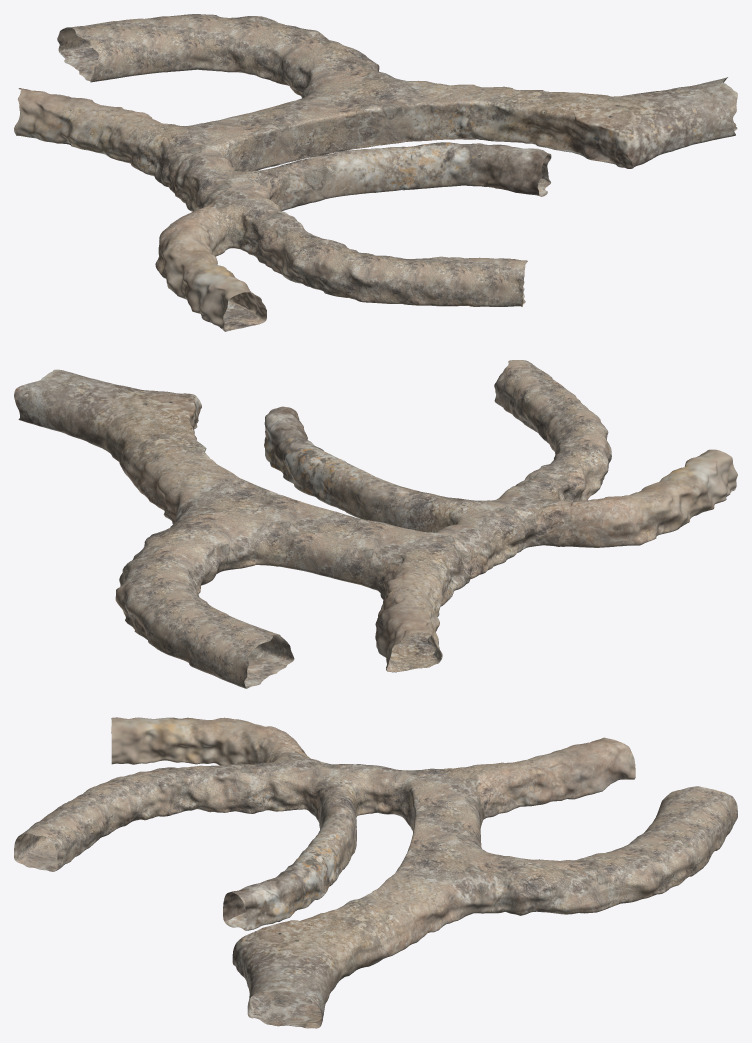
The model's file is cave_v2_insideouttest.fbx.
3 views of the same model, one above another, from view 1: azimuth 30°, elevation 25°; view 2: azimuth 150°, elevation 25°; view 3: azimuth 270°, elevation 25° (orthographic). The views are drawn at different scales.
Parts seen in each view (by area): view 1: Cube; view 2: Cube; view 3: Cube.
Boxes of the visible parts, x1=… form: Cube: x1=14, y1=14, x2=737, y2=331; Cube: x1=14, y1=360, x2=737, y2=688; Cube: x1=14, y1=717, x2=737, y2=1028.
Bounding box in the file's own units: 3099 × 191 × 3285.
